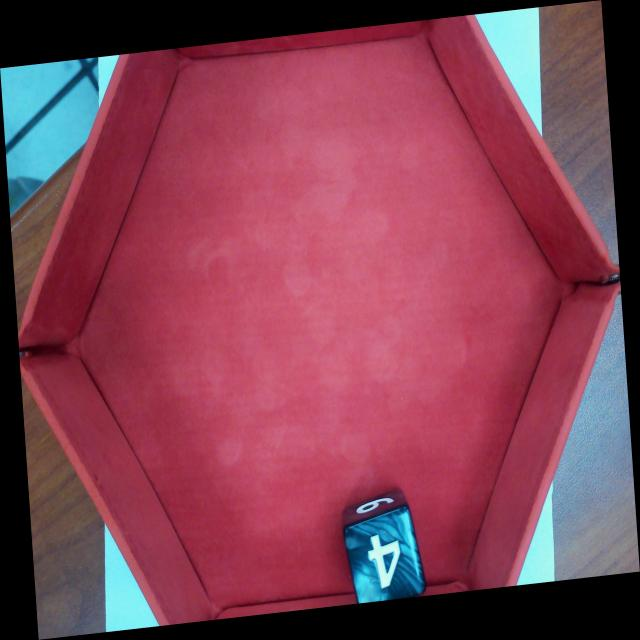dice: (341, 501, 428, 613)
